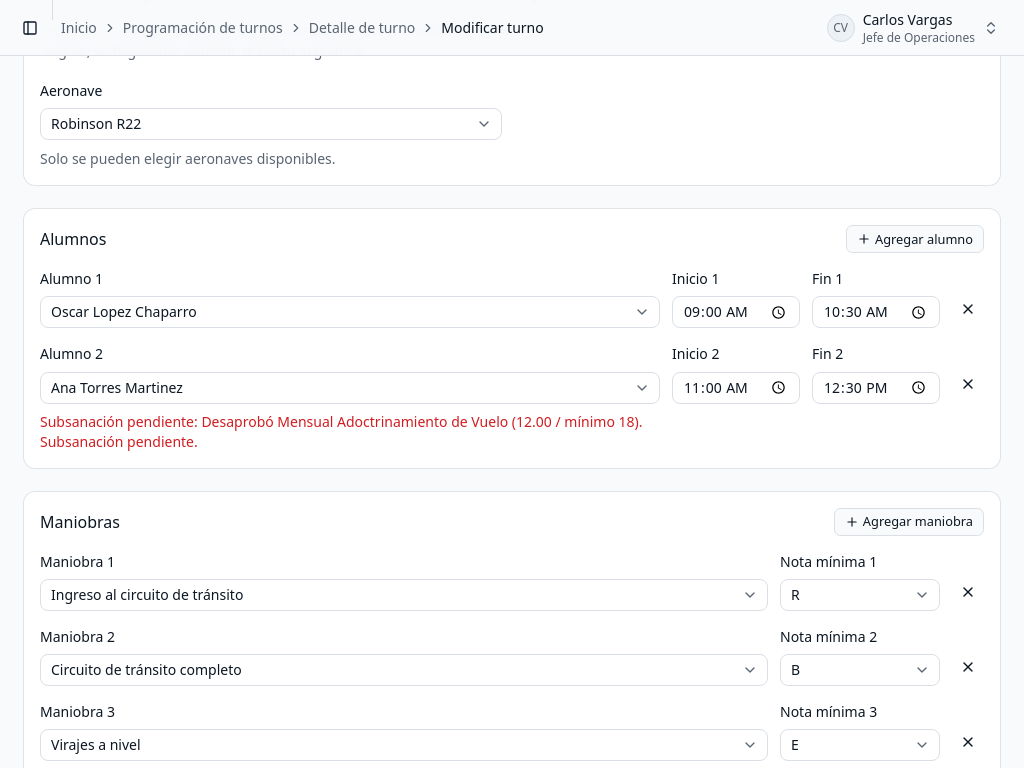
Test: Modificar turno › M1-2 muestra el mensaje del backend si rechaza el cambio por la fecha
(page scrolled)
Click the button named "Quitar alumno 2": (968, 384) [952,368,984,400]
(page scrolled)
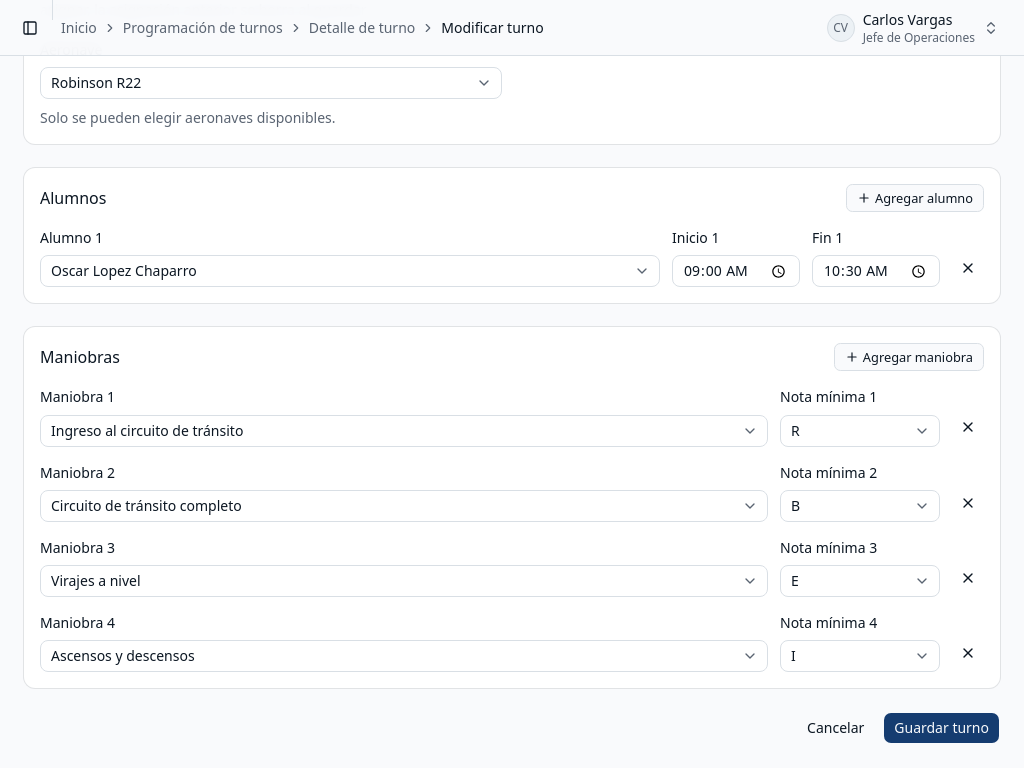
Click the button "Guardar turno": (942, 728) [883,712,1000,744]
(page scrolled)
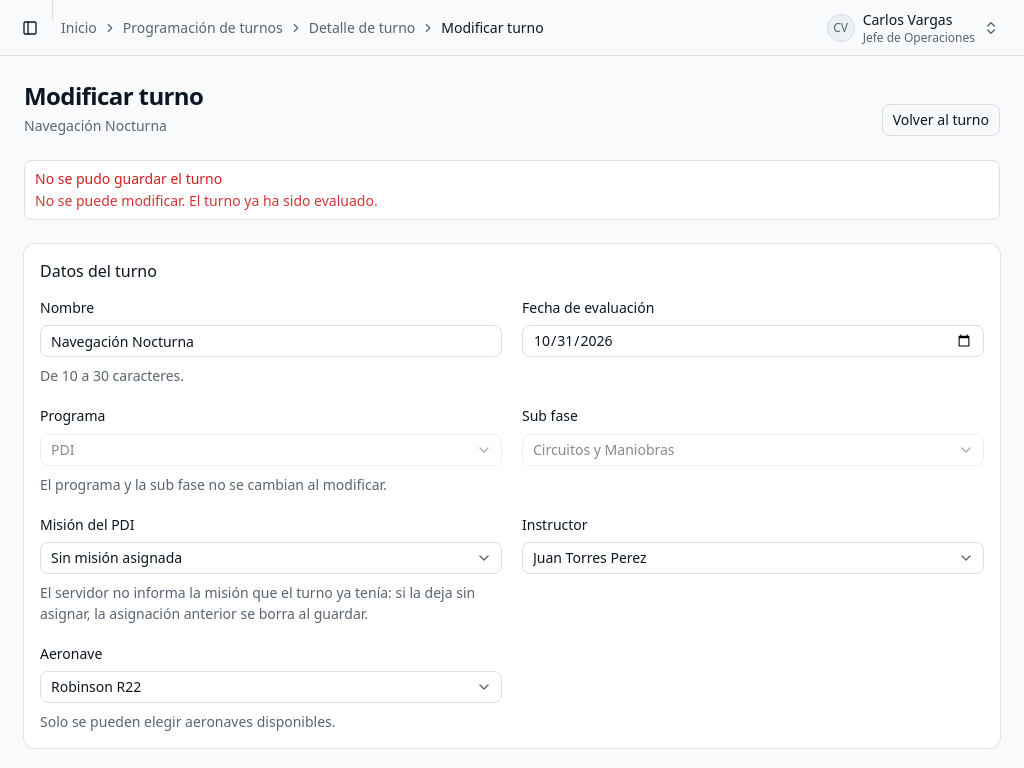
Check: the text "No se puede modificar. El turno ya ha sido evaluado." is shown, box [35,191,378,210]
